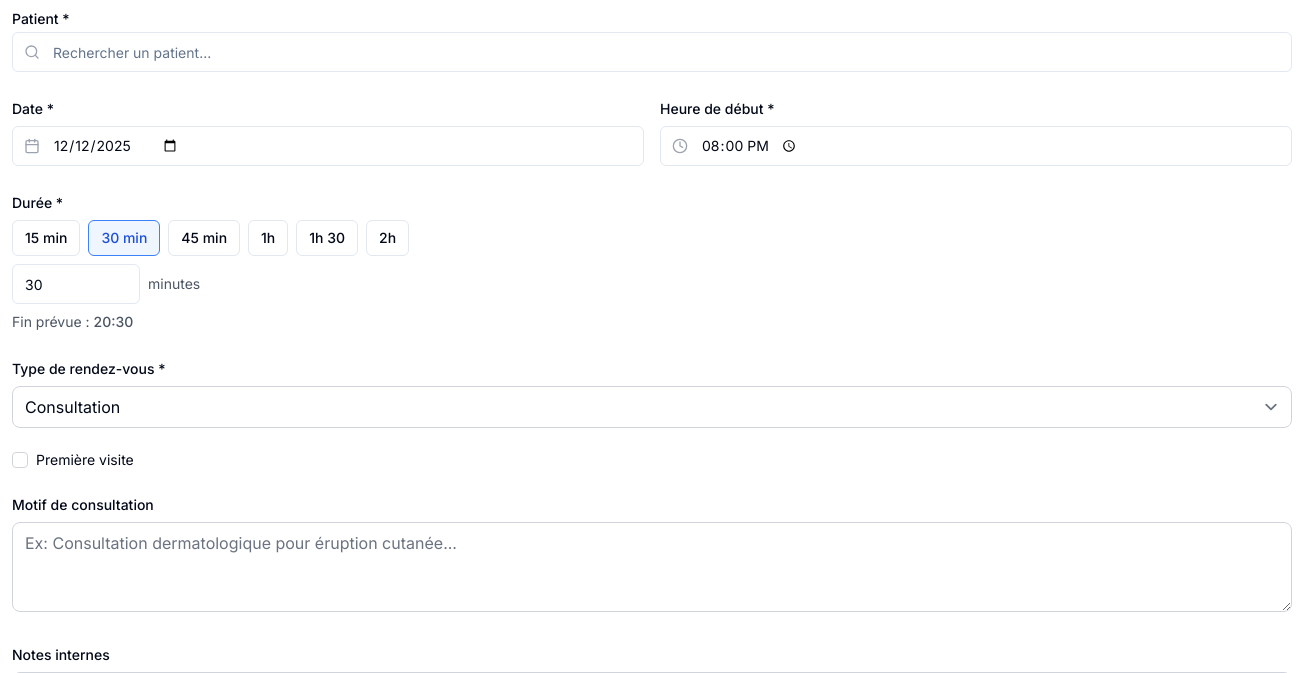
AppointmentForm › should calculate and display end time
This screenshot has width=1304, height=673.
// Set time to 10:00 and duration to 60
Replace the text in the time field labelled "Heure de début *" with "10:00": (976, 146) [660,126,1292,166]
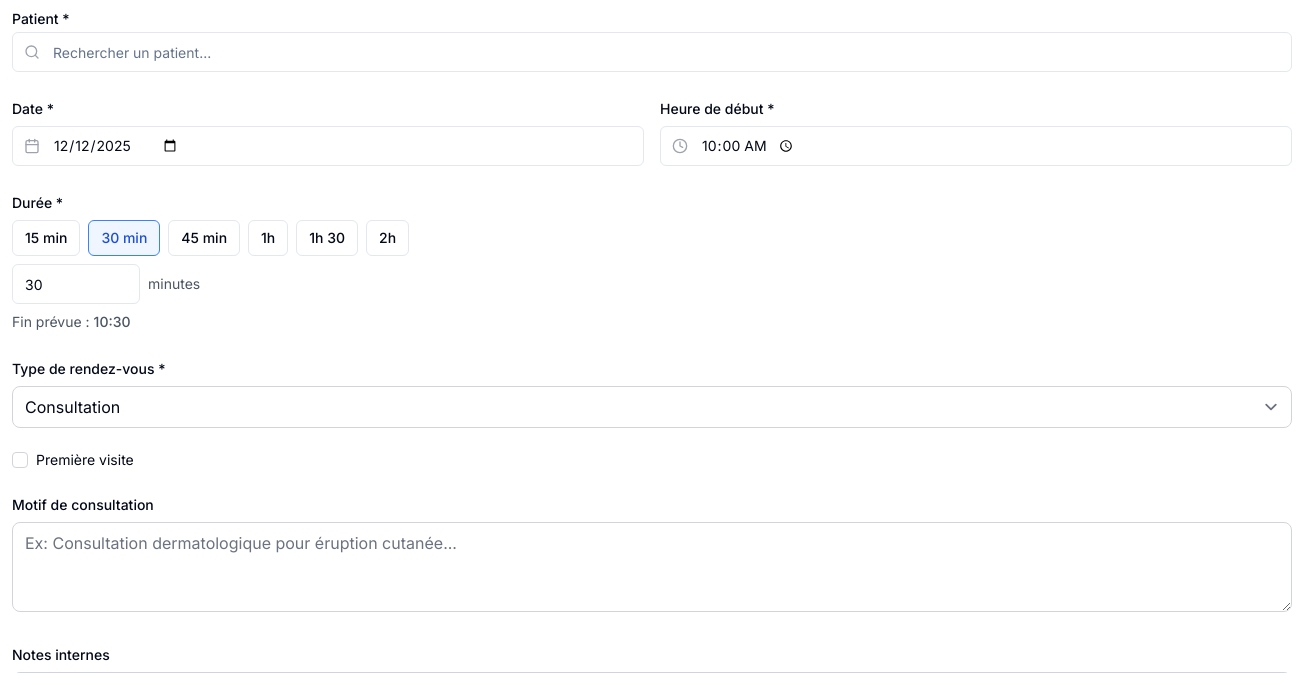
Replace the text in the number field with "60": (76, 284) [12,264,140,304]
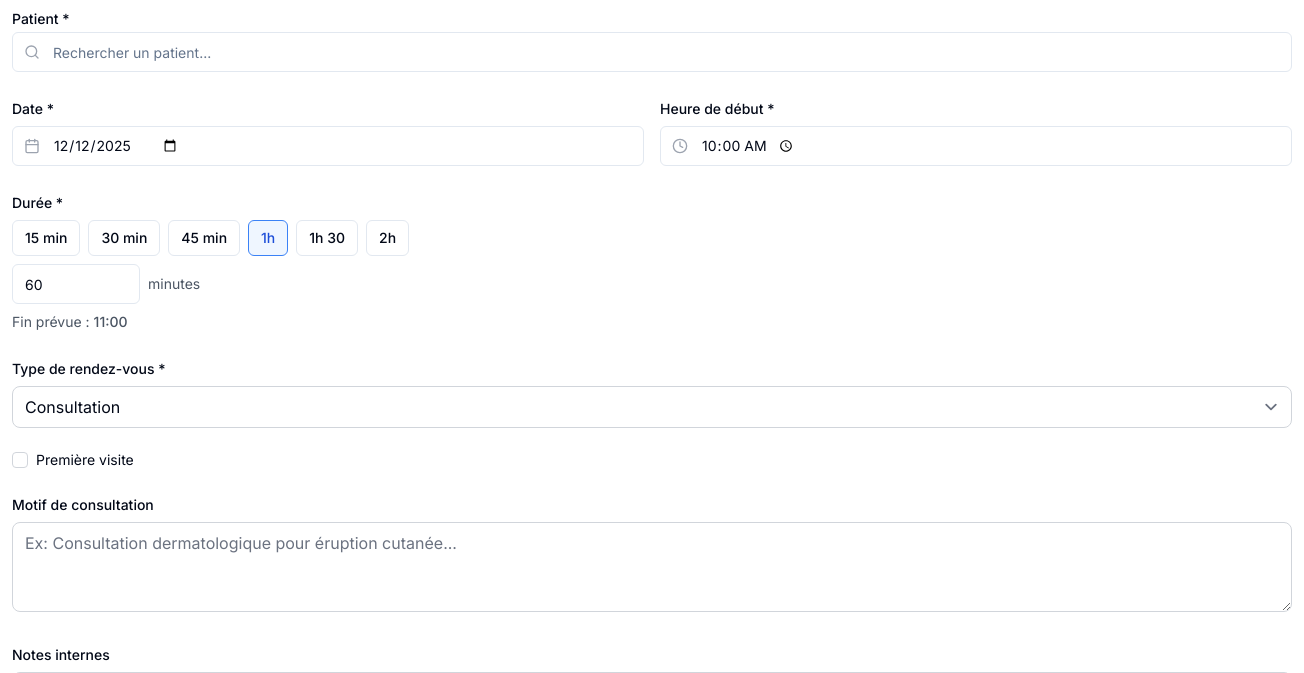
Expected: the text "Fin prévue : 11:00" is shown, [12,313,128,330]
Expected: the text "11:00" is shown, [94,313,128,330]
